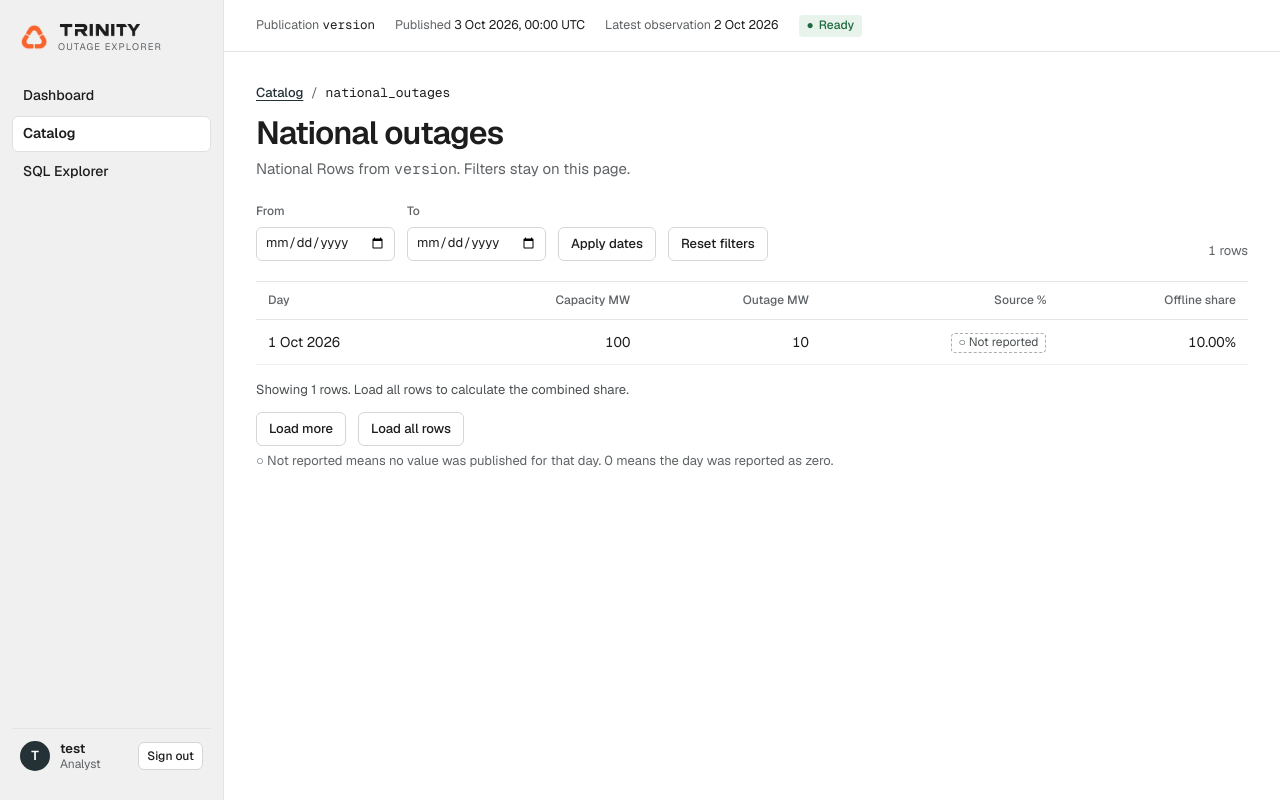
Scenario: table waits for all pages, then weights capacities rather than averaging shares
Check: the text "Showing 1 rows. Load all rows to calculate the combined share." is shown, box [256,381,629,398]
What coordinates should you click on to do the following:
click the button "Load more"
I would click on:
 (301, 429)
Its box is [256,412,346,446].
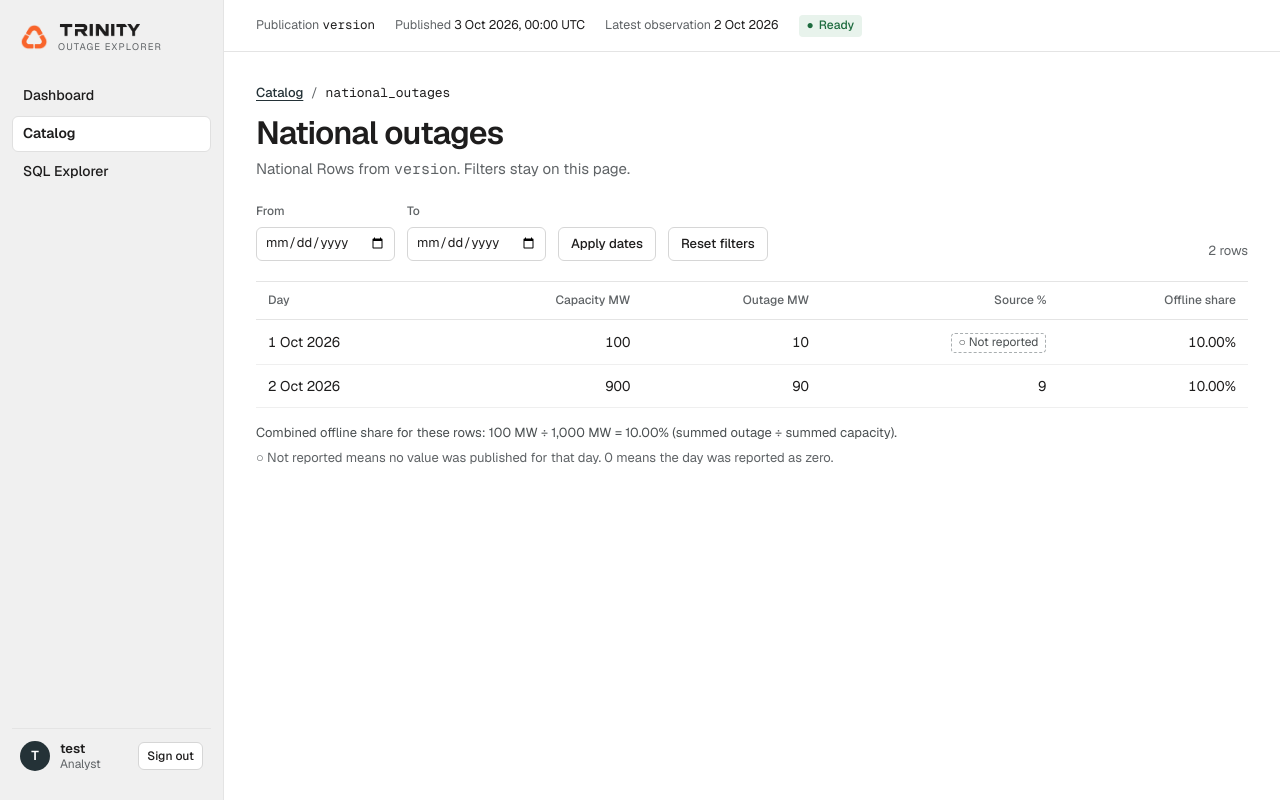
Check: the text "○ Not reported" is shown, box [950,333,1046,353]
Check: the text "Combined offline share for these rows: 100 MW ÷ 1,000 MW = 10.00% (summed outage ÷ summed capacity)." is shown, box [256,424,897,441]
